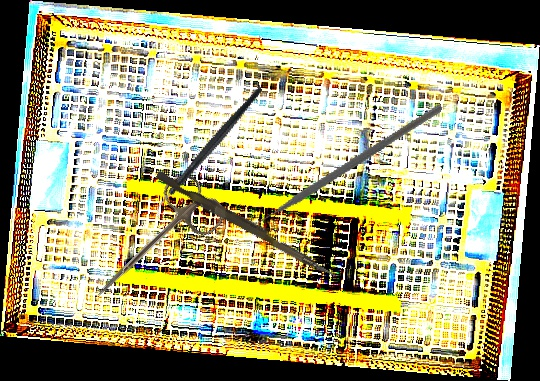Chopper: (236, 46, 444, 280), (125, 85, 294, 221)
Iris Scissors: (77, 167, 231, 321)
Pusher: (152, 170, 341, 280)
